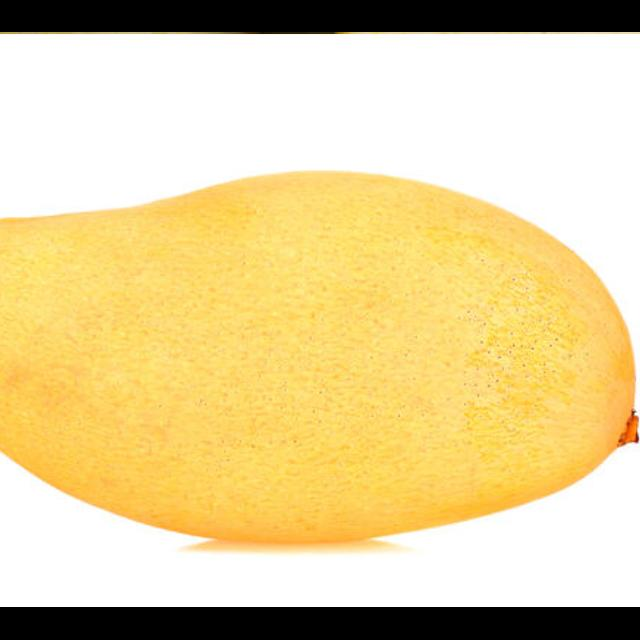mango: (0, 170, 634, 546)
